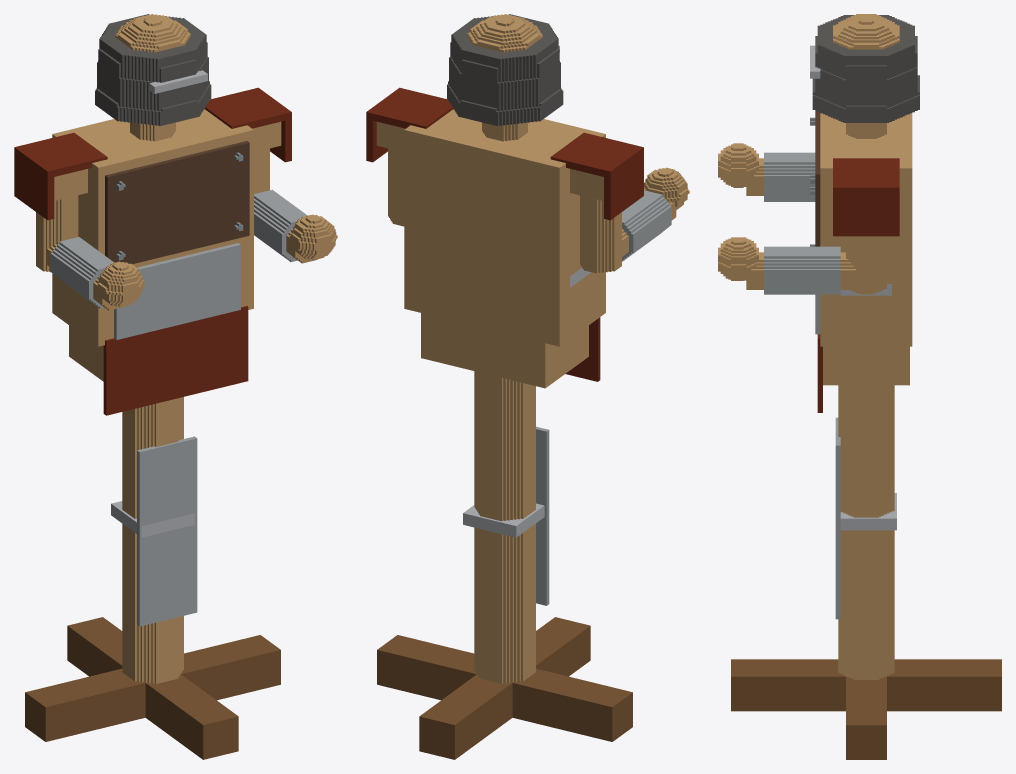
File: training_dummy_heavy.glb
3 renders of one model, left to right at view 1: azimuth 30°, elevation 25°; view 2: azimuth 150°, elevation 25°; view 3: azimuth 270°, elevation 25°, orthographic.
Parts seen in each view (by area): view 1: training_dummy_heavy:compound; view 2: training_dummy_heavy:compound; view 3: training_dummy_heavy:compound.
Boxes of the visible parts, box(x1,y1,x2,y2) form: training_dummy_heavy:compound: box(14, 14, 337, 759); training_dummy_heavy:compound: box(366, 14, 689, 759); training_dummy_heavy:compound: box(718, 14, 1001, 759).
Size of the model in its own units: 0.66 by 1.77 by 0.666.
